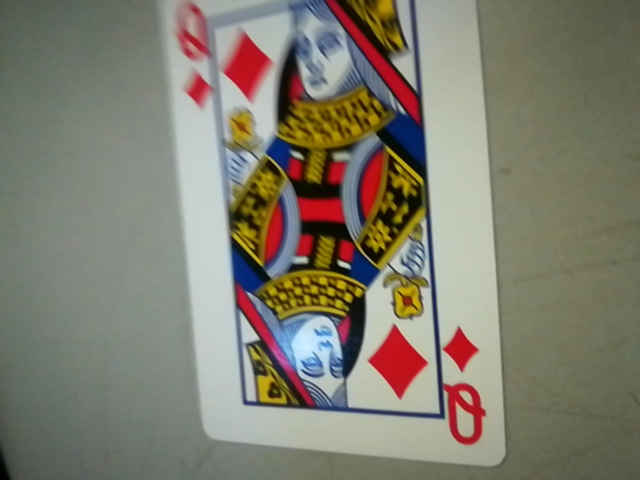fk q: (433, 324, 497, 456)
